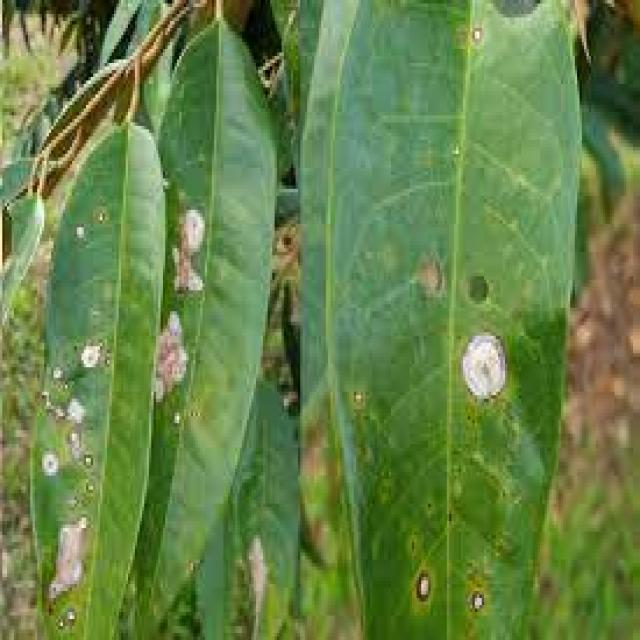Anthracnose: (34, 127, 232, 627), (404, 234, 538, 634), (133, 105, 254, 542)
